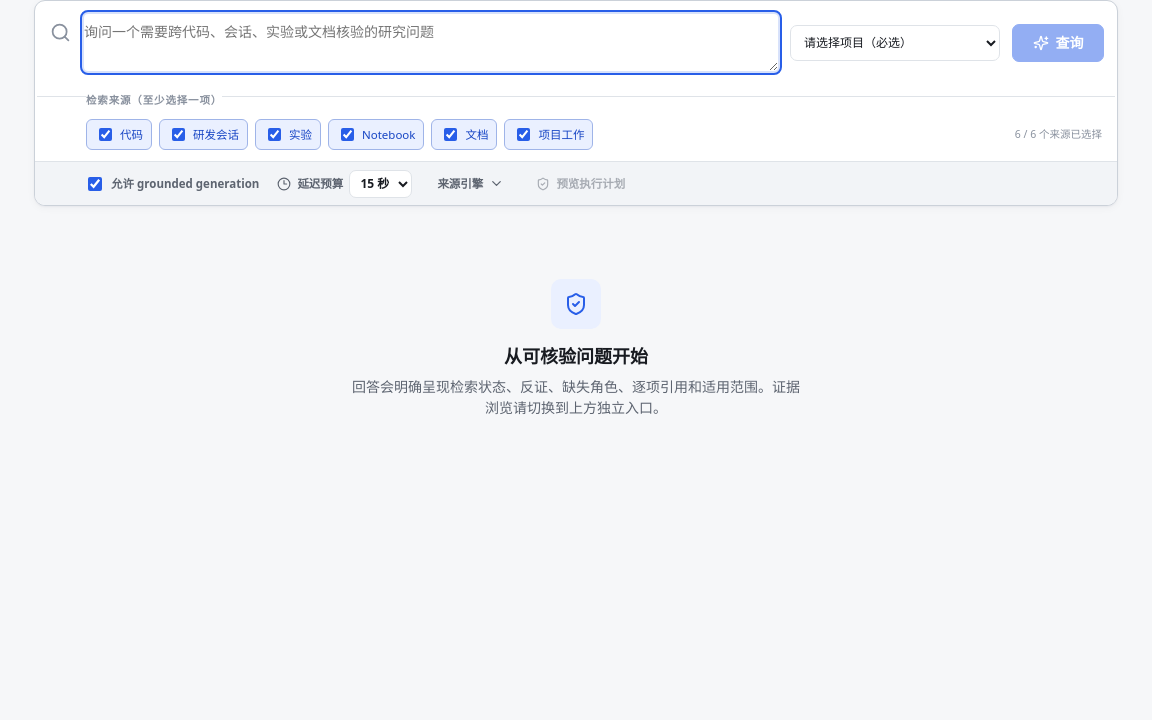
TrustedQueryPanel › renders only the sanitized client error for a backend failure
Step 1. Select "Evidence RAG" in the dropdown named "可信查询项目" → (895, 43), box [790,25,1000,61]
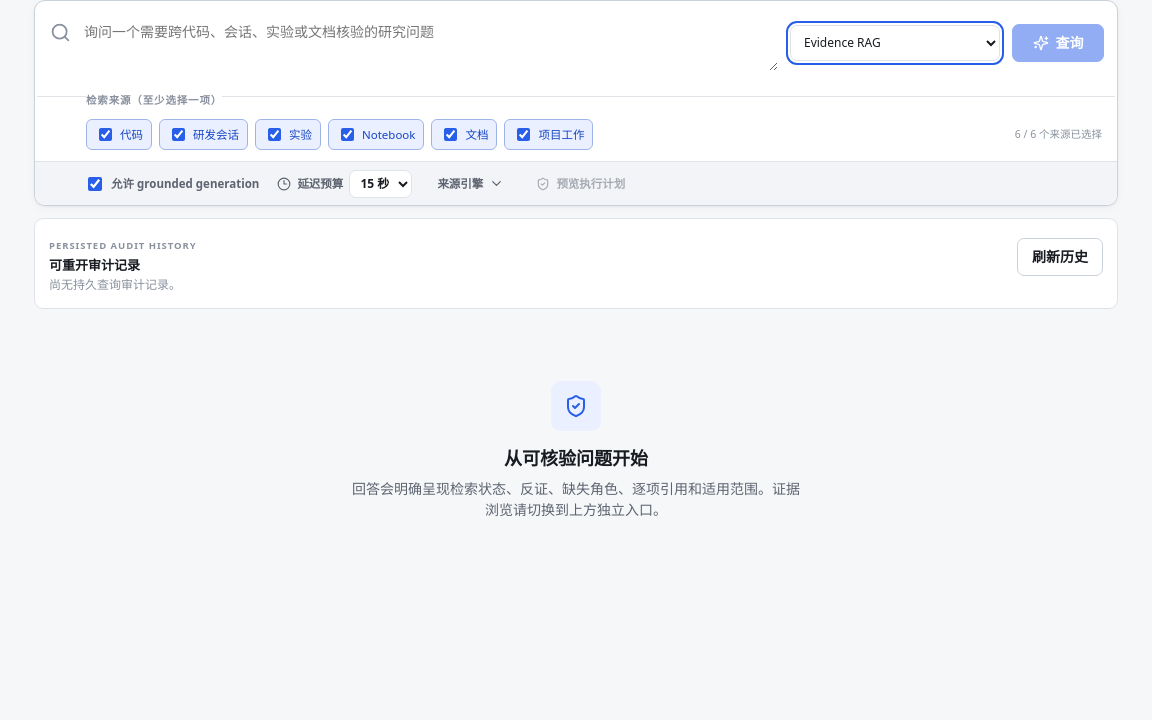
Step 2. Type "Show safe failure." into the text box named "可信查询问题" → (431, 43), box [84,14,778,71]
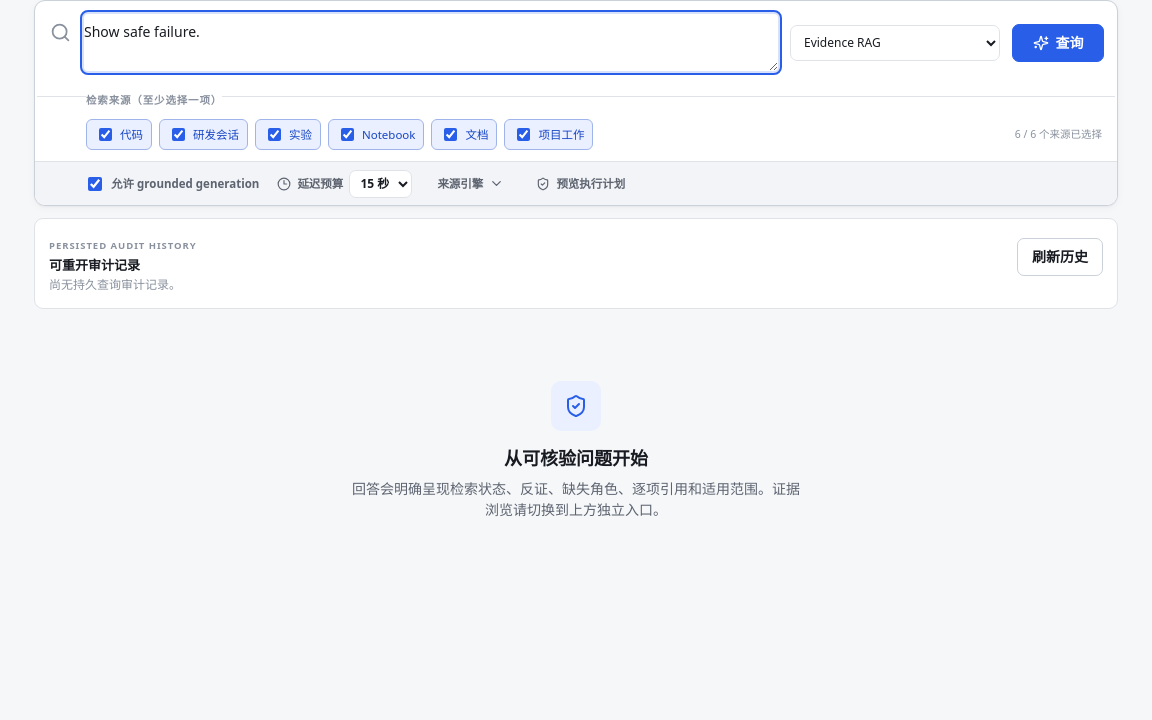
Step 3. Click the button "查询" → (1058, 43), box [1012,24,1104,62]
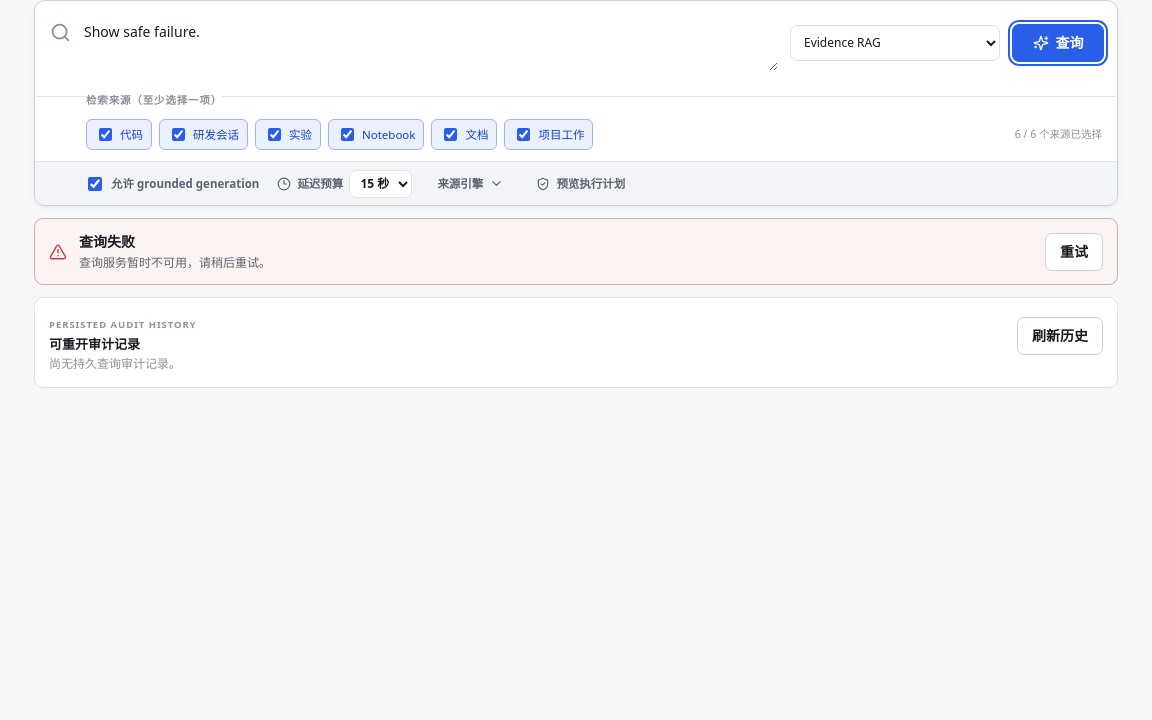
Expected: the text "查询失败" is shown, [79,232,135,251]
Expected: the text "查询服务暂时不可用，请稍后重试。" is shown, [79,254,271,272]
